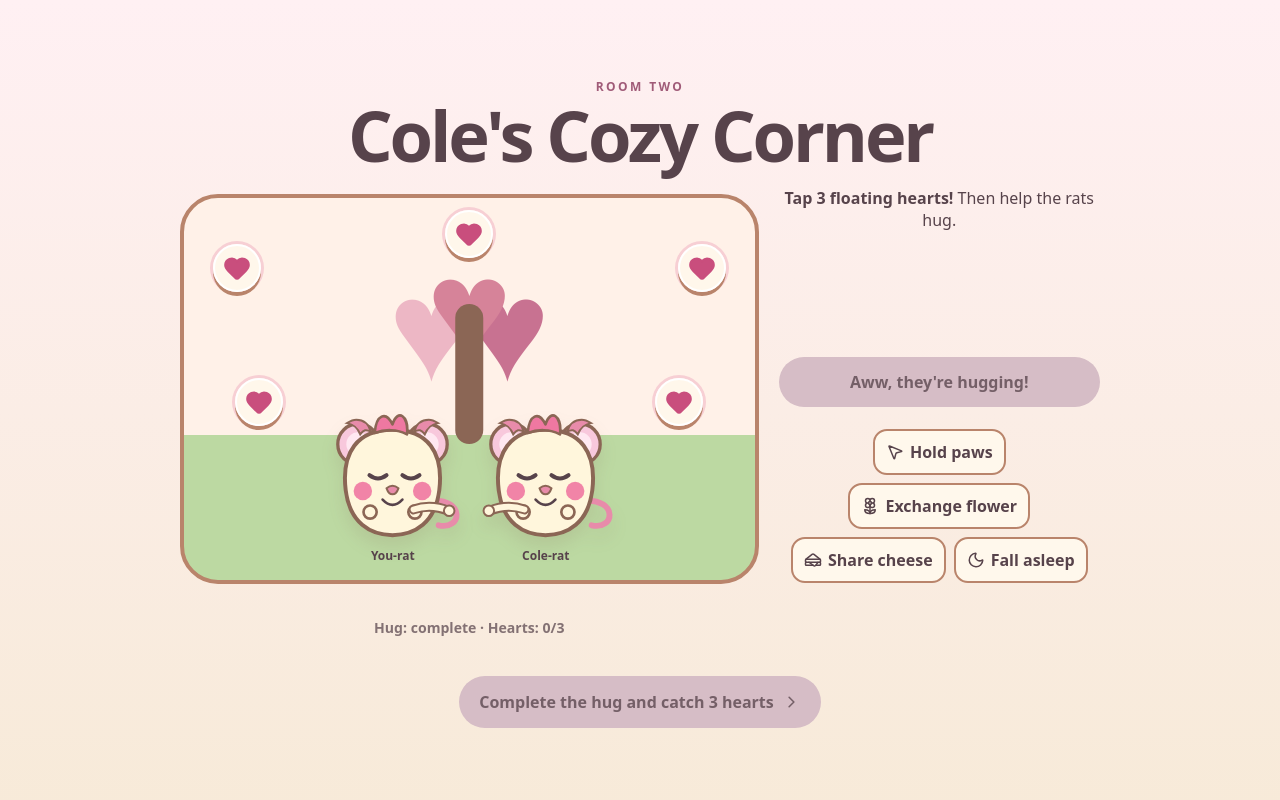
Cole's Cozy Corner › renders and clears the Hold paws visual interaction
Click the button "Hold paws".
click(939, 452)  # box [873, 429, 1006, 475]
Wait 2200 ms
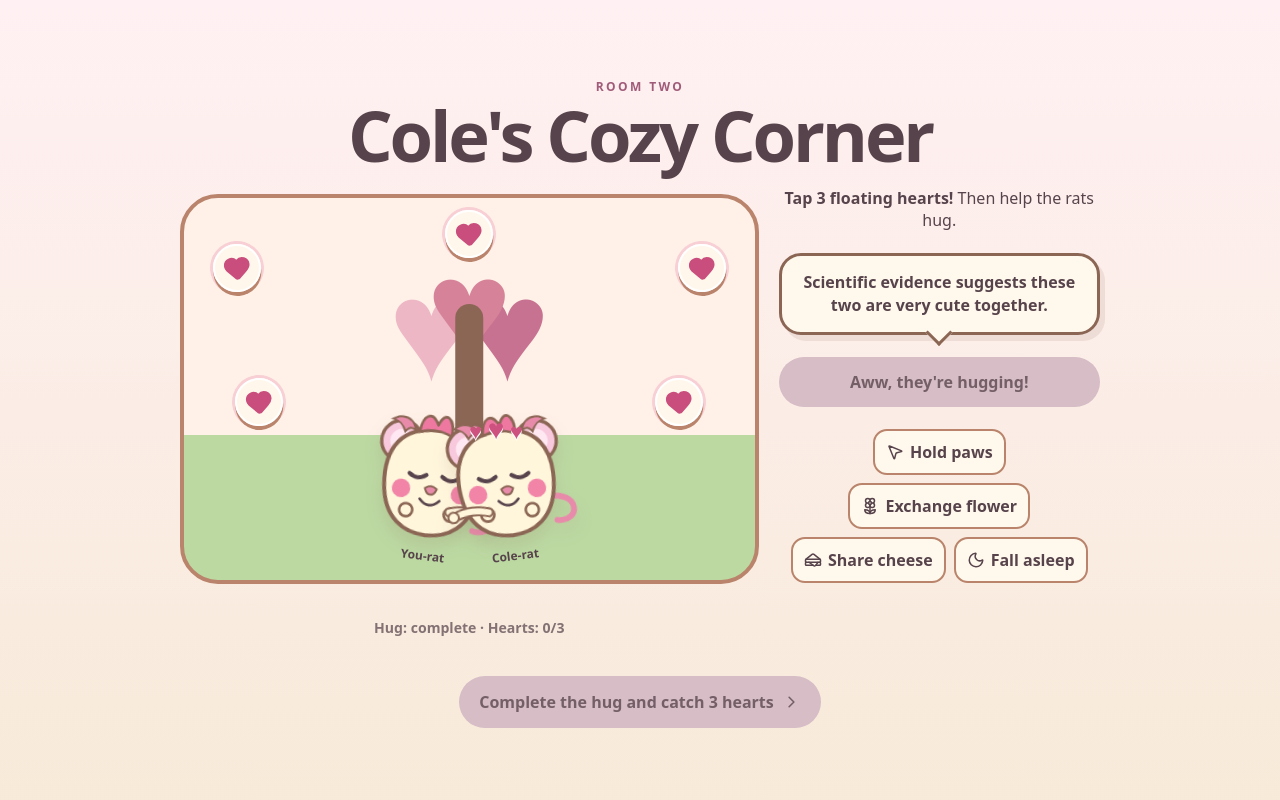
expect the element showing "You-rat Cole-rat ♥ ♥ ♥" is shown: met, box [352, 396, 586, 567]
expect the element named "Connected paws" is shown: met, box [469, 409, 523, 447]
